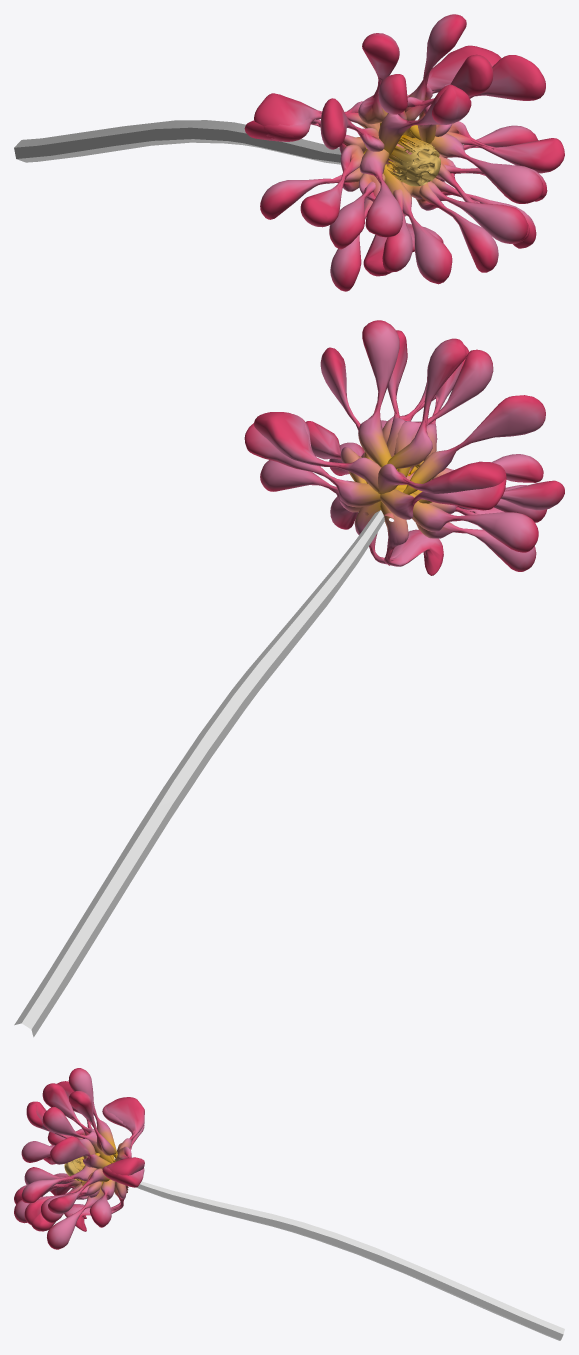
3 renders of one model, top to bottom at view 1: azimuth 30°, elevation 25°; view 2: azimuth 150°, elevation 25°; view 3: azimuth 270°, elevation 25°, orthographic. The views are drawn at different scales.
Parts seen in each view (by area): view 1: LOD 3_12354301473551943262_6ce4b76265bb7814c8655d2aa02cba96; view 2: LOD 3_12354301473551943262_6ce4b76265bb7814c8655d2aa02cba96; view 3: LOD 3_12354301473551943262_6ce4b76265bb7814c8655d2aa02cba96.
Boxes of the visible parts, x1,y1,x2,y2 form: LOD 3_12354301473551943262_6ce4b76265bb7814c8655d2aa02cba96: (14, 14, 564, 291); LOD 3_12354301473551943262_6ce4b76265bb7814c8655d2aa02cba96: (14, 320, 564, 1037); LOD 3_12354301473551943262_6ce4b76265bb7814c8655d2aa02cba96: (14, 1068, 564, 1340).
Size of the model in its own units: 5.91 by 8.7 by 16.68.
